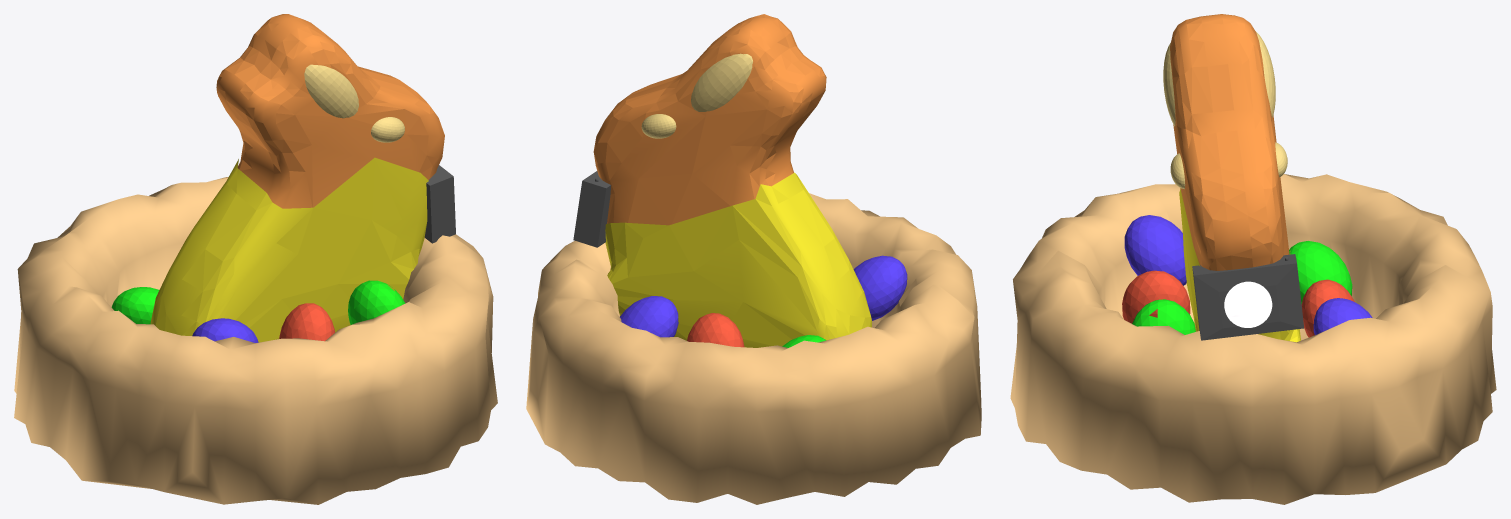
The model's file is spyingEasterBunny.glb.
3 views of the same model, side by side, from view 1: azimuth 30°, elevation 25°; view 2: azimuth 150°, elevation 25°; view 3: azimuth 270°, elevation 25° (orthographic). The views are drawn at different scales.
Visible parts, largest first — view 1: Building_Easter_Bunny; view 2: Building_Easter_Bunny; view 3: Building_Easter_Bunny.
Boxes of the visible parts, x1,y1,x2,y2 form: Building_Easter_Bunny: [14, 14, 497, 504]; Building_Easter_Bunny: [526, 14, 981, 504]; Building_Easter_Bunny: [1010, 14, 1496, 504].
Bounding box in the file's own units: 7.15 × 6.46 × 7.17.
